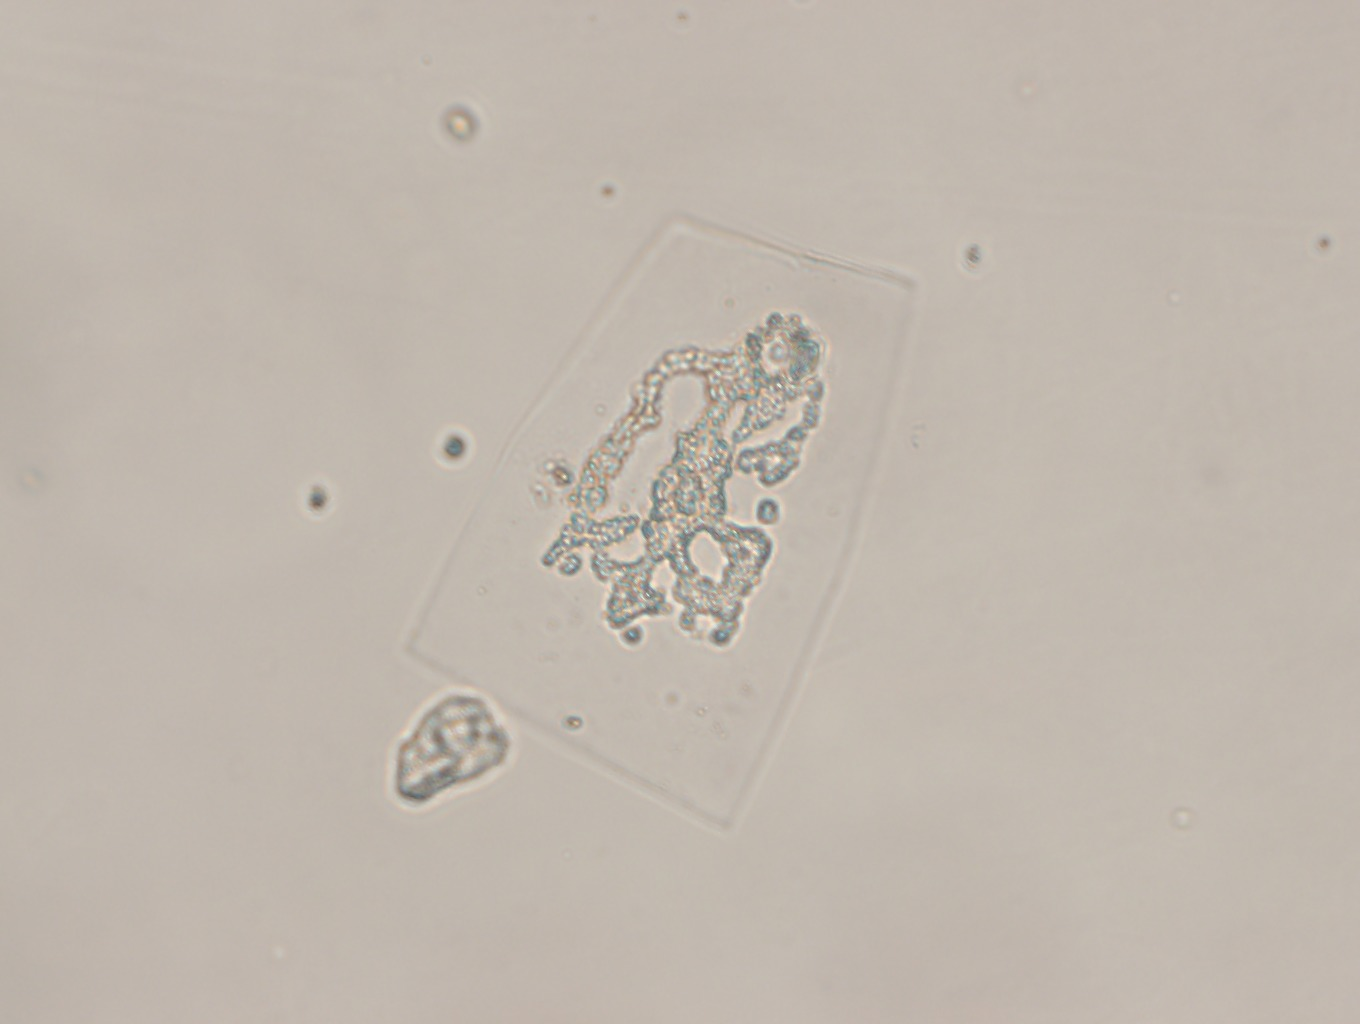helicotheca: (399, 209, 930, 833)
